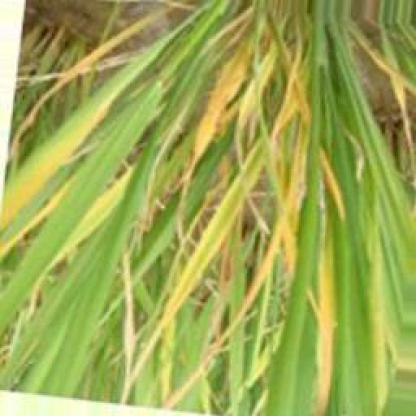Tungro: (165, 76, 326, 414), (159, 29, 312, 328), (3, 18, 191, 242), (178, 31, 274, 188), (39, 21, 164, 130), (55, 166, 151, 273), (317, 203, 338, 416), (359, 32, 414, 107), (319, 155, 353, 217)
